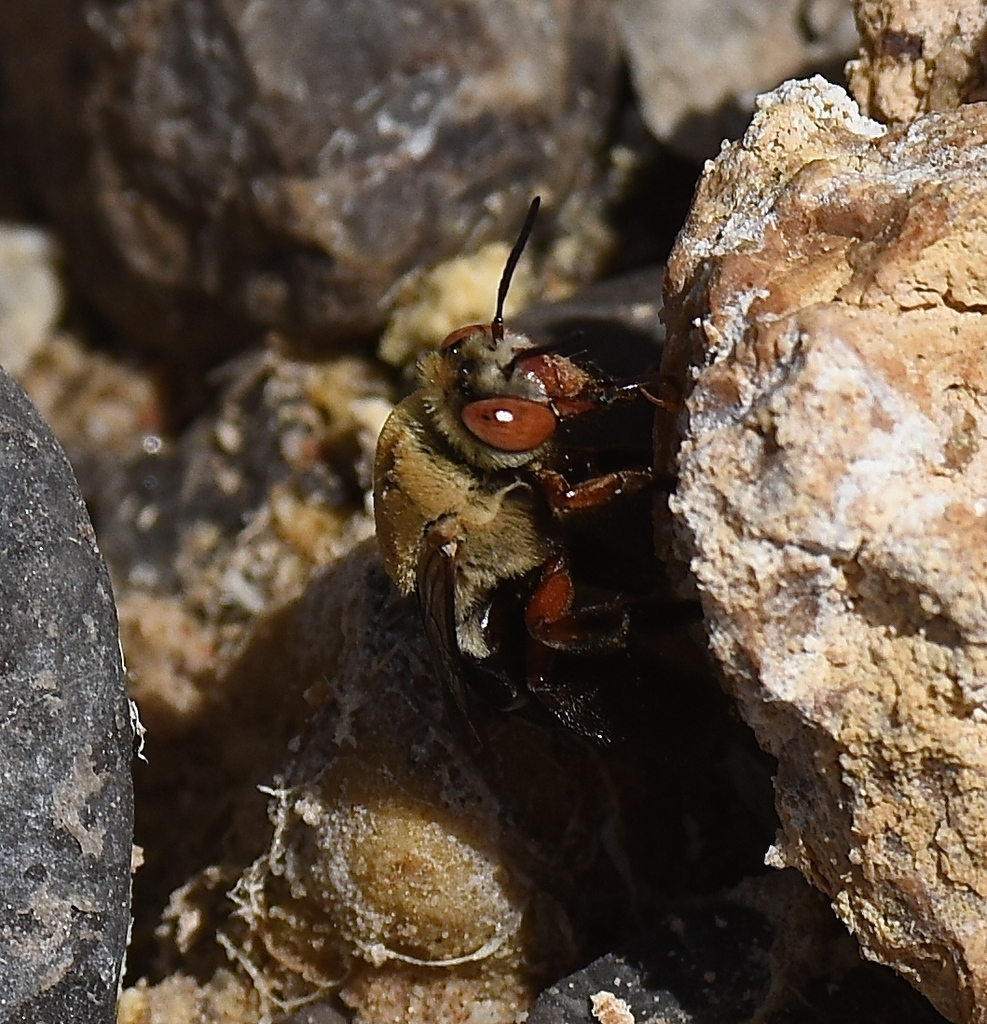not_bumblebee: (369, 196, 701, 794)
